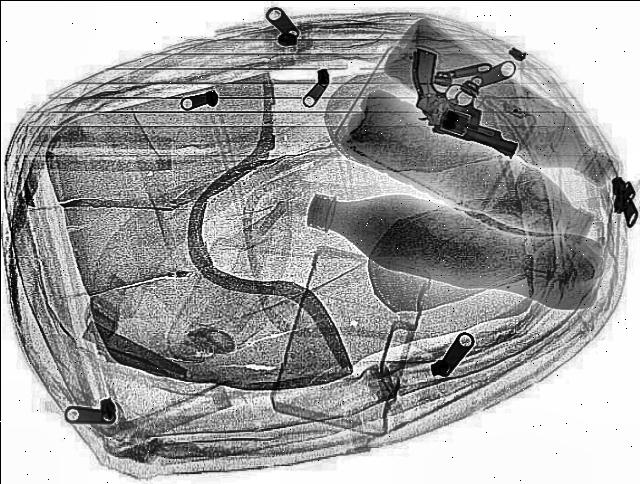Gun: (375, 42, 525, 176)
